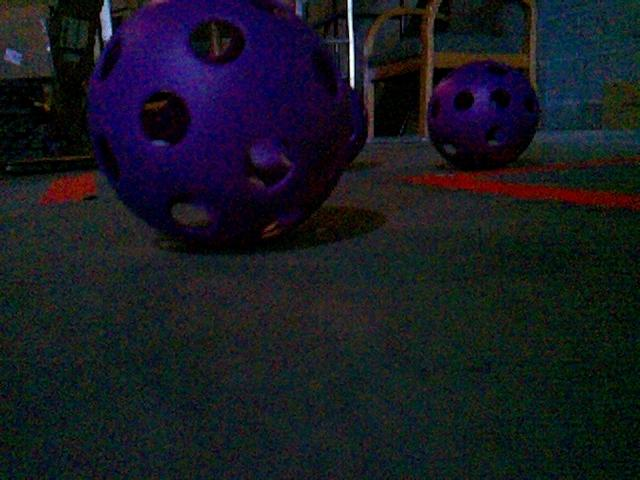Purple: (82, 0, 368, 249), (422, 58, 543, 170)
